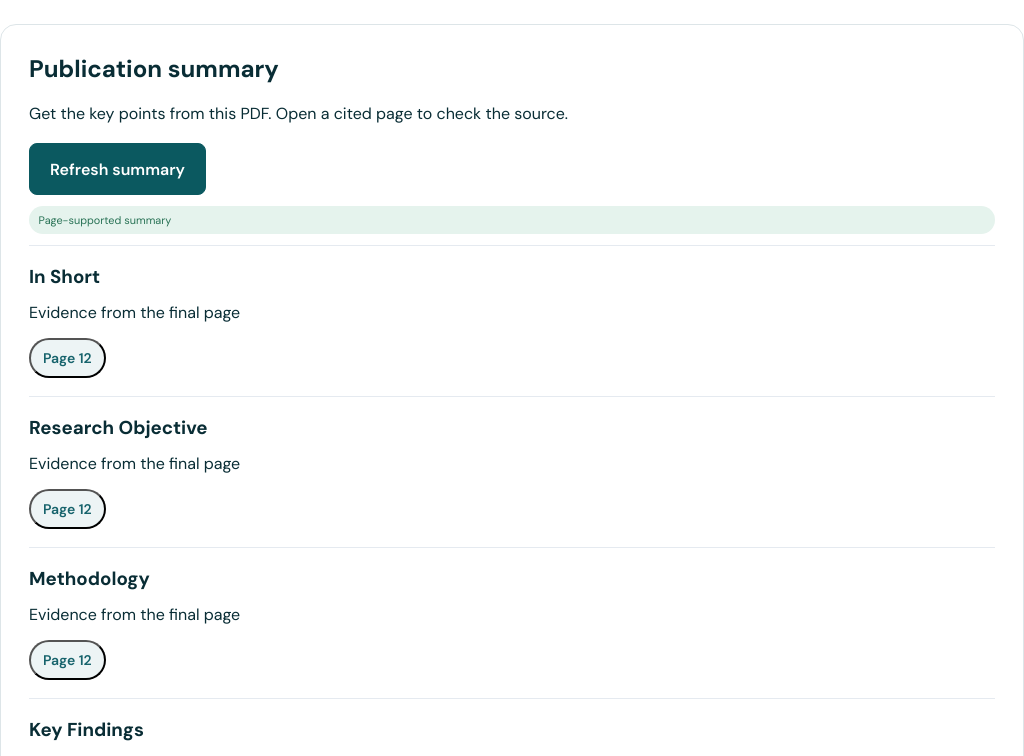
Test: publication summary › can refresh an old AI summary and display the replacement CV overview
The width and height of the screenshot is (1024, 756).
Click the button "Refresh summary" at {"x": 118, "y": 169}, box [29,143,206,195]
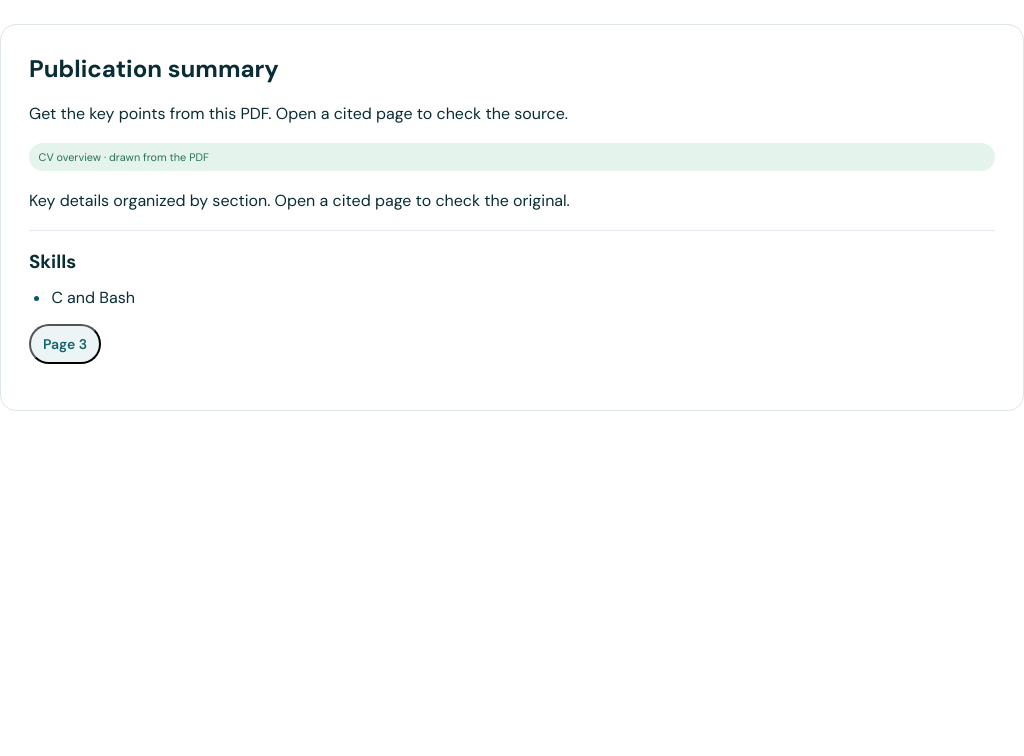
Now the heading "Skills" is shown, box [29,250,76,274]
Now the heading "Research Objective" is gone
Now the button "Page 3" is shown, box [29,324,101,364]
